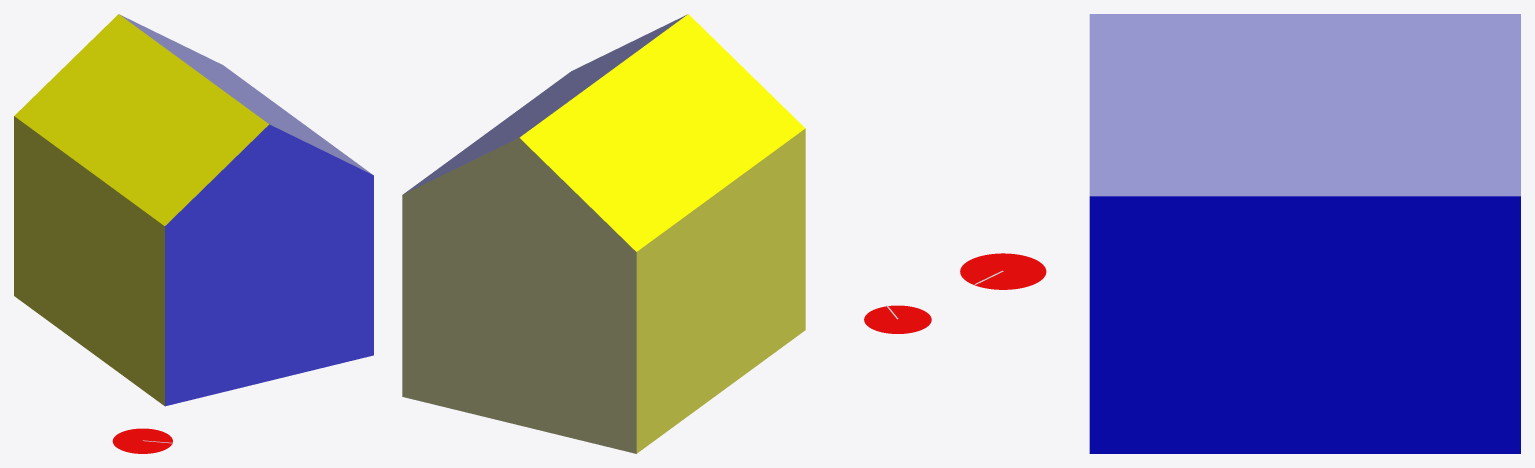
File: result.glb
3 views of the same model, side by side, from view 1: azimuth 30°, elevation 25°; view 2: azimuth 150°, elevation 25°; view 3: azimuth 270°, elevation 25° (orthographic). The views are drawn at different scales.
Visible parts, largest first — view 1: 0f3cc14b-de95-42ed-b37d-1fd6d49750ad__undefined, 333d70af-2984-4501-9aaf-4b47c63a7d04__undefined, 02bd0cdd-aaa8-4cca-97e4-efd62591cd68__undefined, e0ff1944-918c-431c-9857-836afc497cb4__undefined, 578ef336-2a70-4e6e-bc98-133eea57ee4d__Circle; view 2: 6579d8ed-c2fd-460f-96ea-ebd896832a8f__undefined, 333d70af-2984-4501-9aaf-4b47c63a7d04__undefined, 02bd0cdd-aaa8-4cca-97e4-efd62591cd68__undefined, e0ff1944-918c-431c-9857-836afc497cb4__undefined, 578ef336-2a70-4e6e-bc98-133eea57ee4d__Circle; view 3: 44392000-8b52-46b0-83ba-c03cf02f55d6__undefined, e0ff1944-918c-431c-9857-836afc497cb4__undefined, 578ef336-2a70-4e6e-bc98-133eea57ee4d__Circle.
Boxes of the visible parts, <box> form: 0f3cc14b-de95-42ed-b37d-1fd6d49750ad__undefined: <box>165,124,373,406</box>; 333d70af-2984-4501-9aaf-4b47c63a7d04__undefined: <box>14,116,164,405</box>; 02bd0cdd-aaa8-4cca-97e4-efd62591cd68__undefined: <box>14,14,268,225</box>; e0ff1944-918c-431c-9857-836afc497cb4__undefined: <box>119,14,372,174</box>; 578ef336-2a70-4e6e-bc98-133eea57ee4d__Circle: <box>112,428,172,453</box>; 6579d8ed-c2fd-460f-96ea-ebd896832a8f__undefined: <box>402,138,636,453</box>; 333d70af-2984-4501-9aaf-4b47c63a7d04__undefined: <box>636,128,805,453</box>; 02bd0cdd-aaa8-4cca-97e4-efd62591cd68__undefined: <box>519,14,805,251</box>; e0ff1944-918c-431c-9857-836afc497cb4__undefined: <box>403,14,687,194</box>; 578ef336-2a70-4e6e-bc98-133eea57ee4d__Circle: <box>864,305,931,333</box>; 44392000-8b52-46b0-83ba-c03cf02f55d6__undefined: <box>1089,196,1520,453</box>; e0ff1944-918c-431c-9857-836afc497cb4__undefined: <box>1089,14,1520,196</box>; 578ef336-2a70-4e6e-bc98-133eea57ee4d__Circle: <box>960,253,1046,289</box>.
Bounding box in the file's own units: 550 × 469 × 650.
